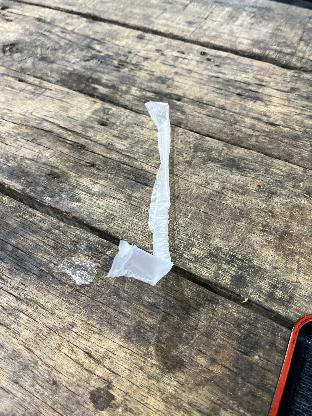Others: (114, 96, 174, 284), (56, 252, 96, 286)
